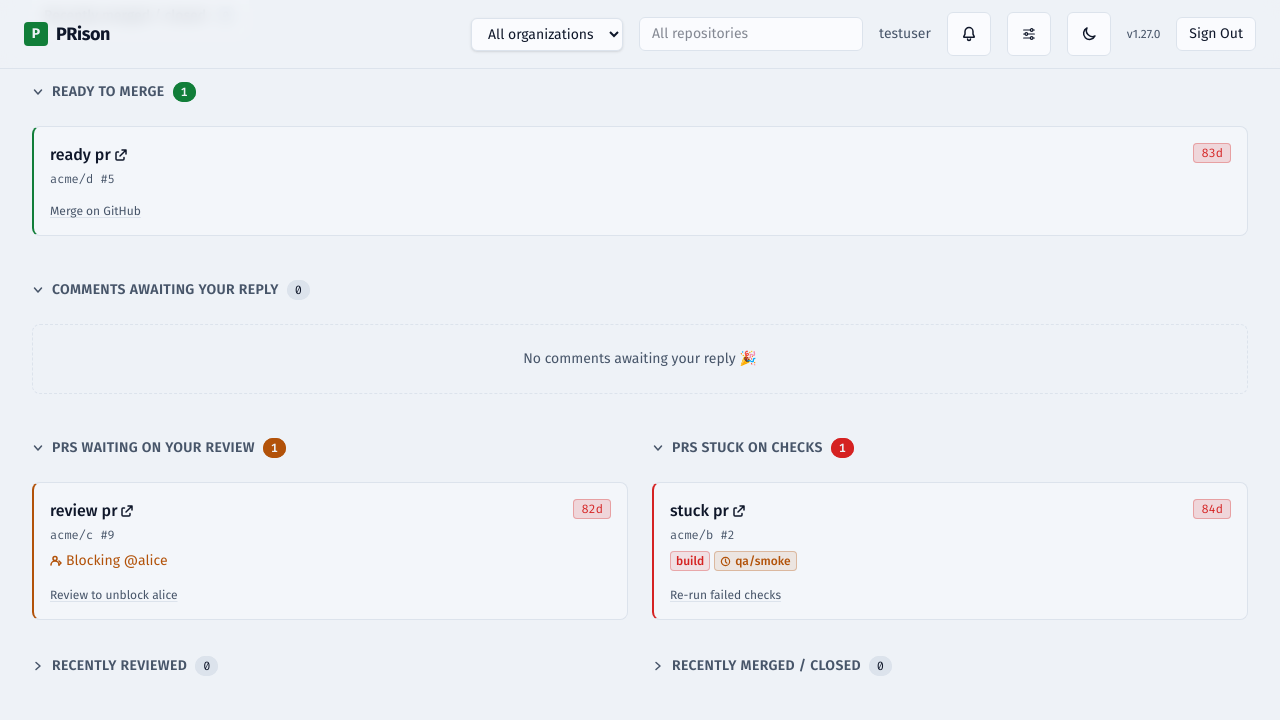
Test: Dashboard › ignored checks › ignores an awaited tracked check from its own chip
(page scrolled)
Expected: the link "stuck pr" is shown, [670,499,745,523]
Click the button with aria-label "Awaiting required check: qa/smoke": coordinates (755, 561) [714,551,796,571]
(page scrolled)
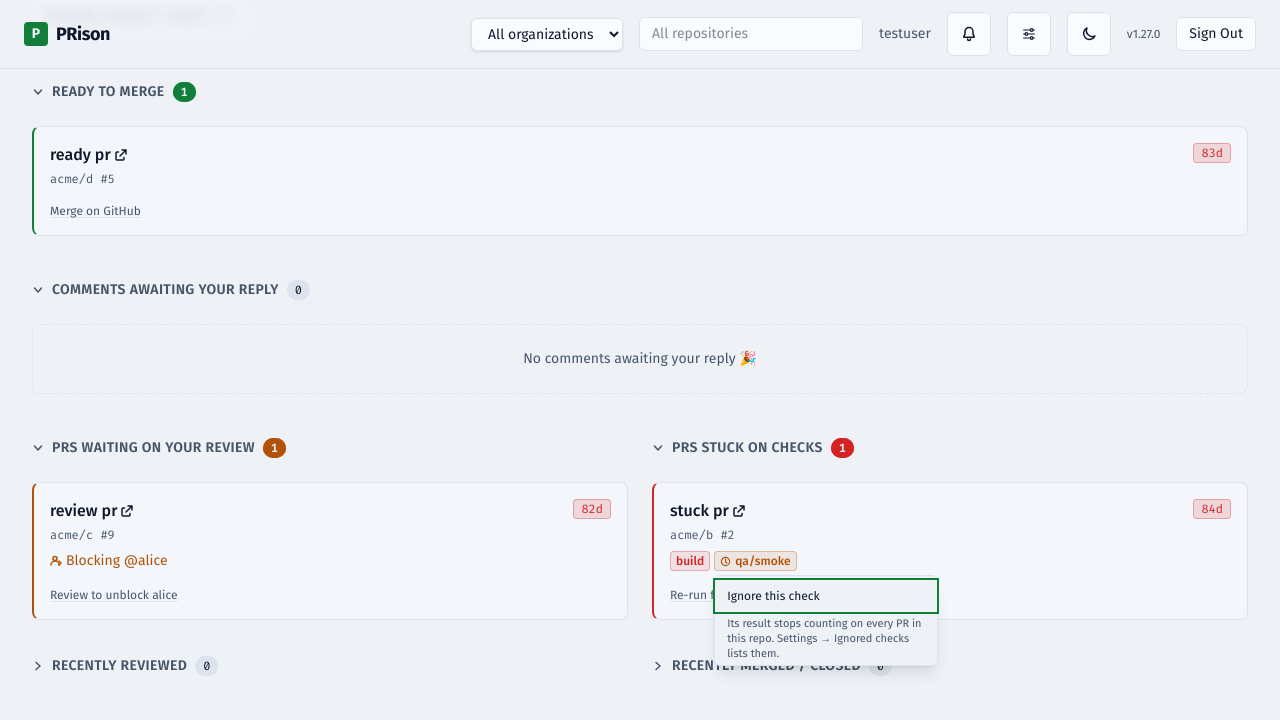
Click the menu item "Ignore this check": coordinates (826, 596) [715,580,937,612]
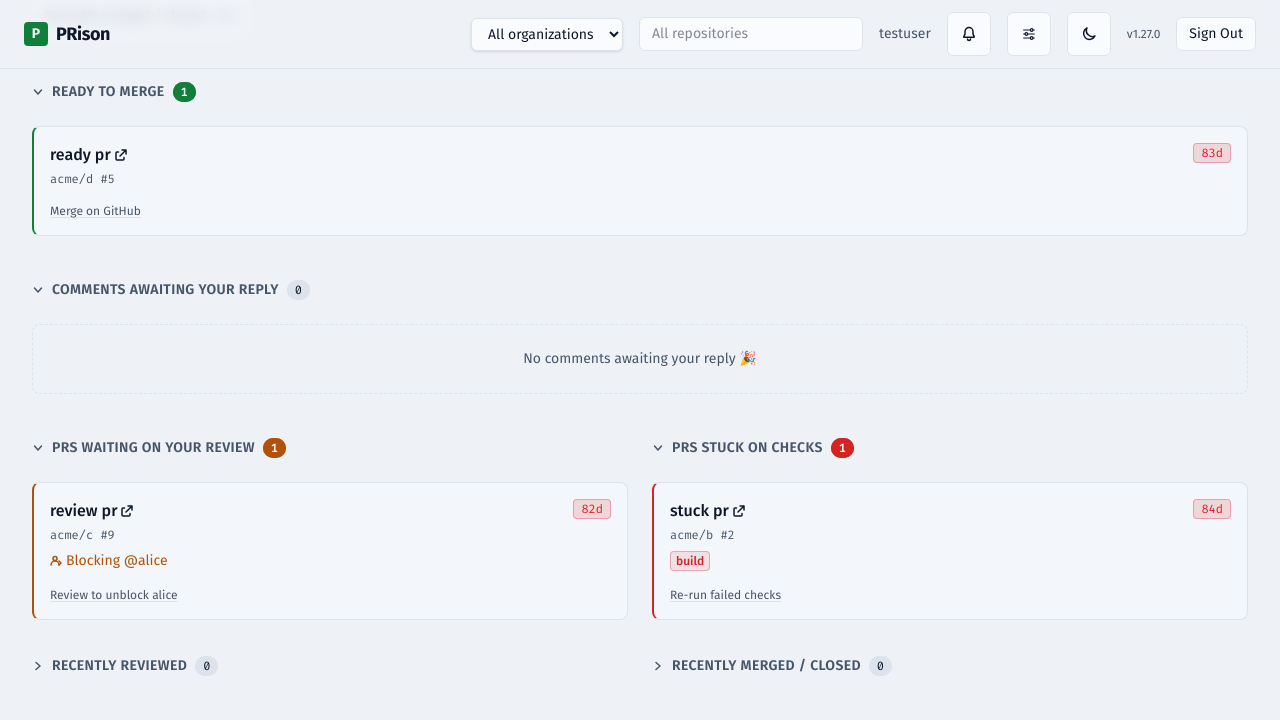
Expected: the button "qa/smoke" is gone
